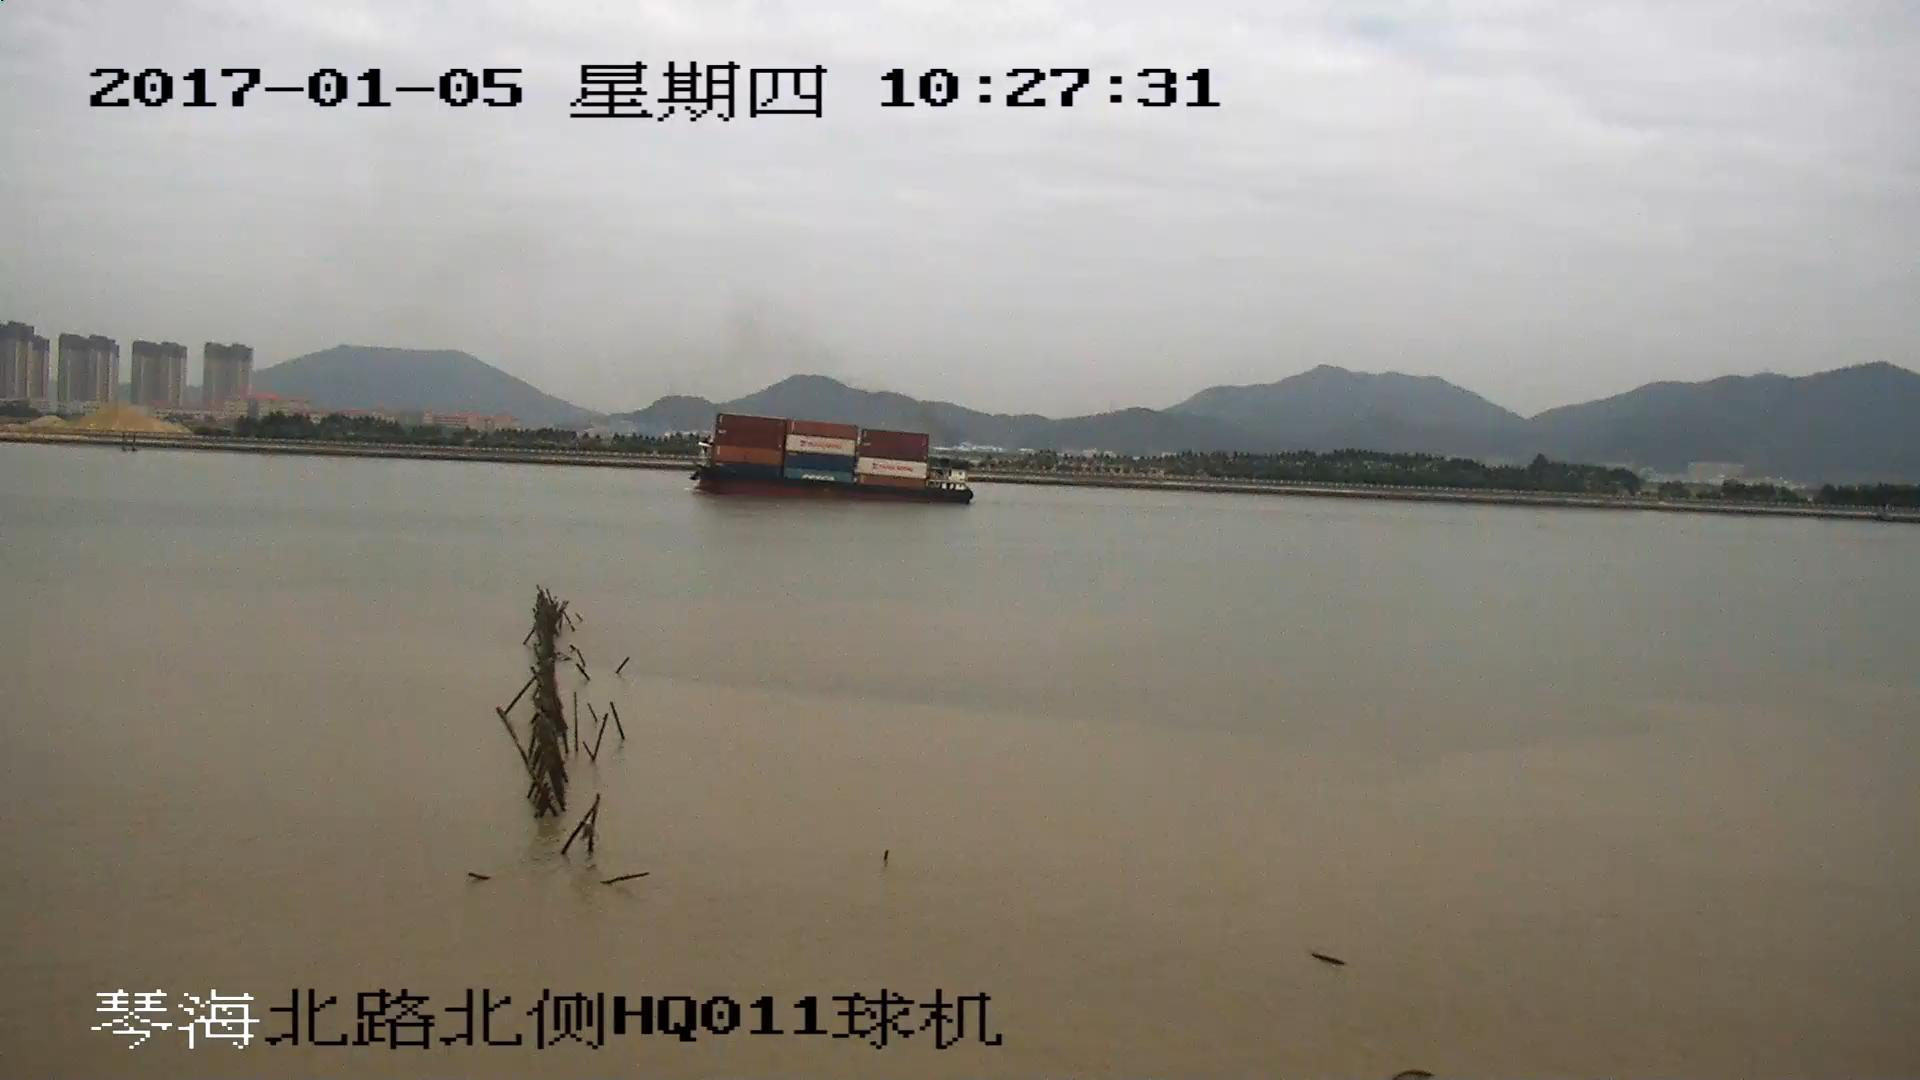Ship: (680, 409, 971, 504)
